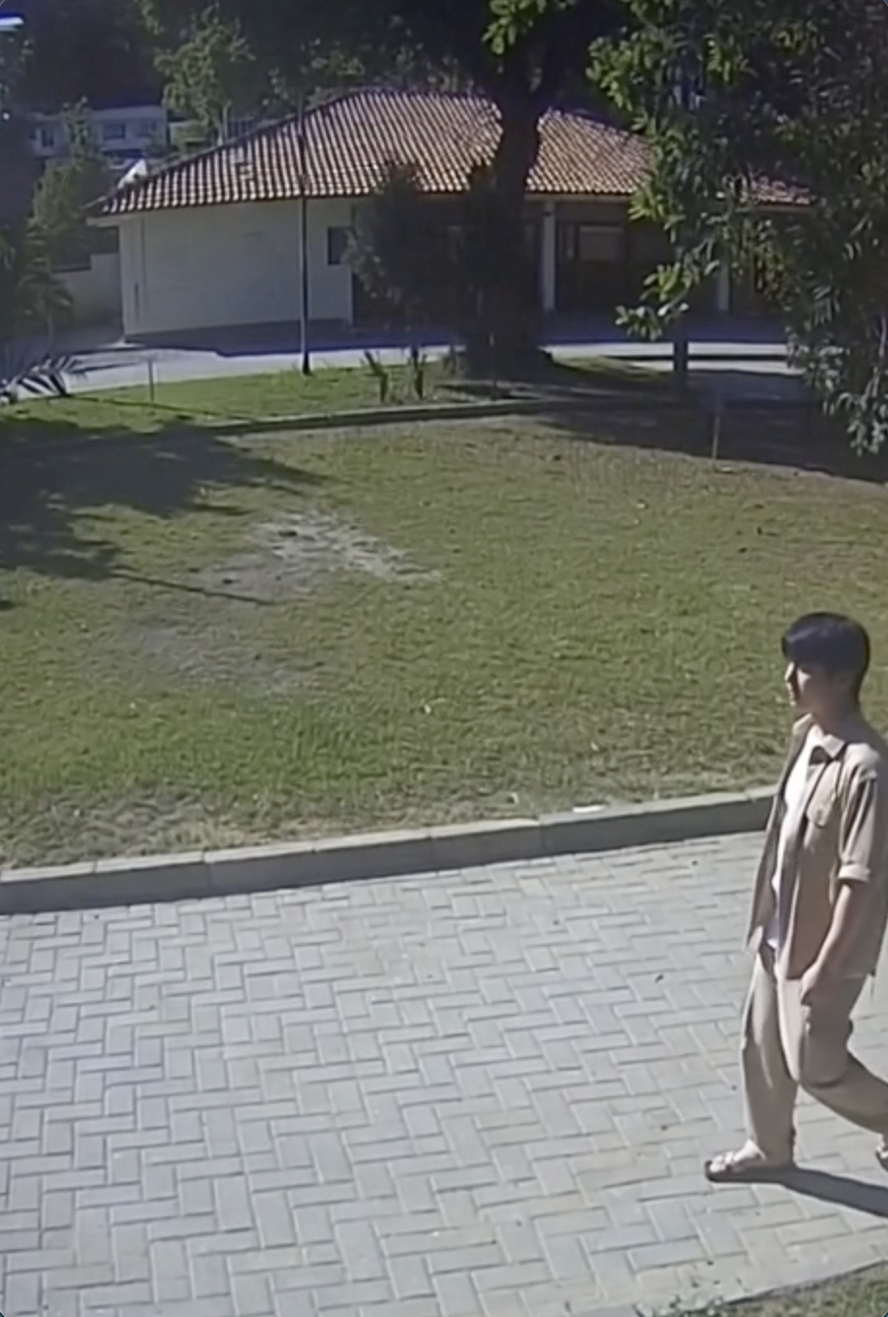Heavy Gun: (685, 603, 888, 1202)
